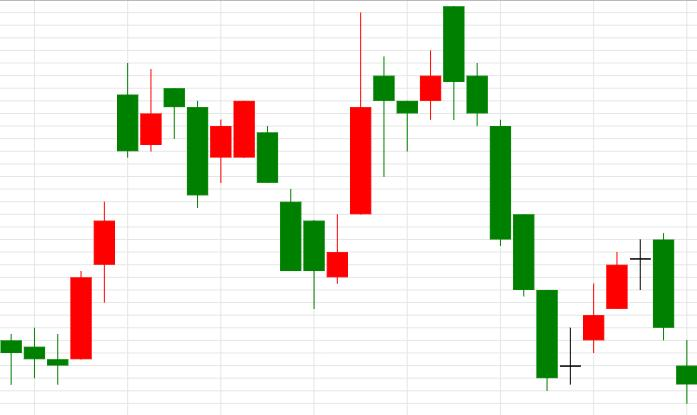three_black_crows_fall: (397, 5, 512, 247)
